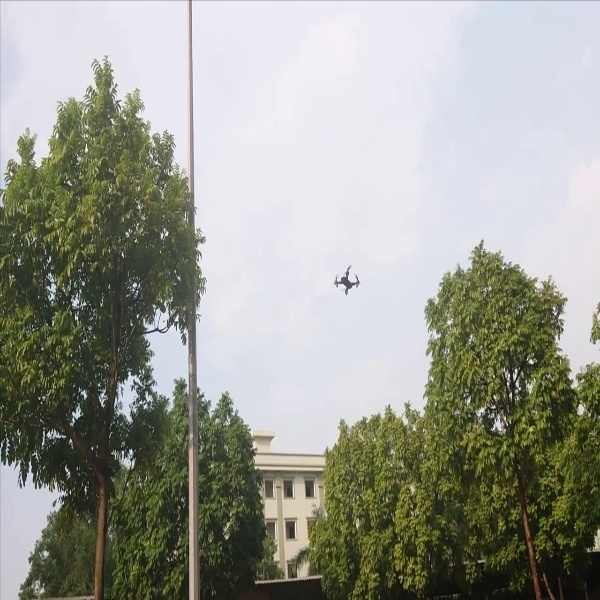drone: (327, 262, 367, 300)
